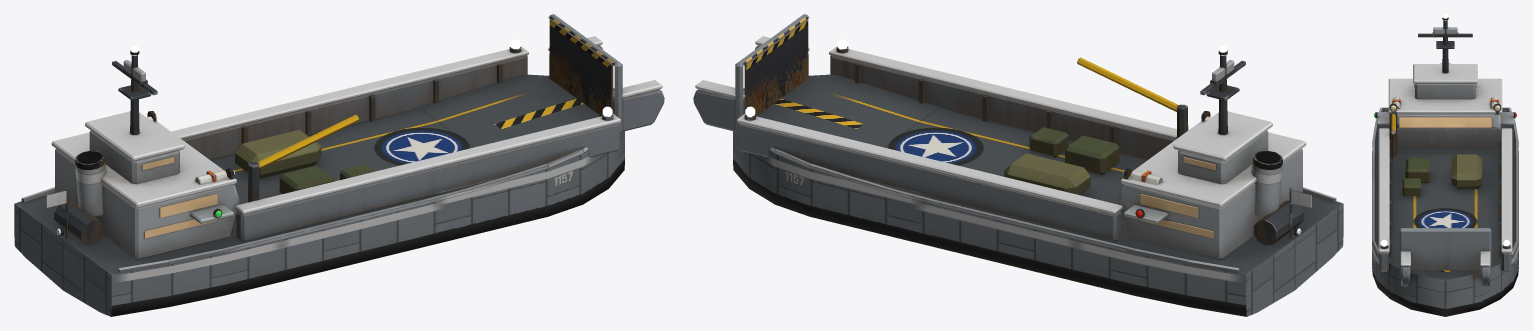
Rendered from lst.allies.glb.
3 renders of one model, left to right at view 1: azimuth 30°, elevation 25°; view 2: azimuth 150°, elevation 25°; view 3: azimuth 270°, elevation 25°, orthographic. The views are drawn at different scales.
Parts seen in each view (by area): view 1: hull_mesh, ramp_mesh, doorL_mesh; view 2: hull_mesh, ramp_mesh, doorR_mesh; view 3: hull_mesh, ramp_mesh, doorR_mesh, doorL_mesh, radar_mesh.
Boxes of the visible parts, x1,y1,x2,y2 form: hull_mesh: (14,39,624,316); ramp_mesh: (548,14,622,133); doorL_mesh: (612,80,664,131); hull_mesh: (733,39,1343,316); ramp_mesh: (735,14,809,133); doorR_mesh: (693,80,745,131); hull_mesh: (1372,14,1518,316); ramp_mesh: (1399,228,1491,275); doorR_mesh: (1480,251,1490,286); doorL_mesh: (1400,251,1410,286); radar_mesh: (1432,27,1458,36).
Bounding box in the file's own units: 1.47 × 0.571 × 0.48.
3 materials, 1 textured.
